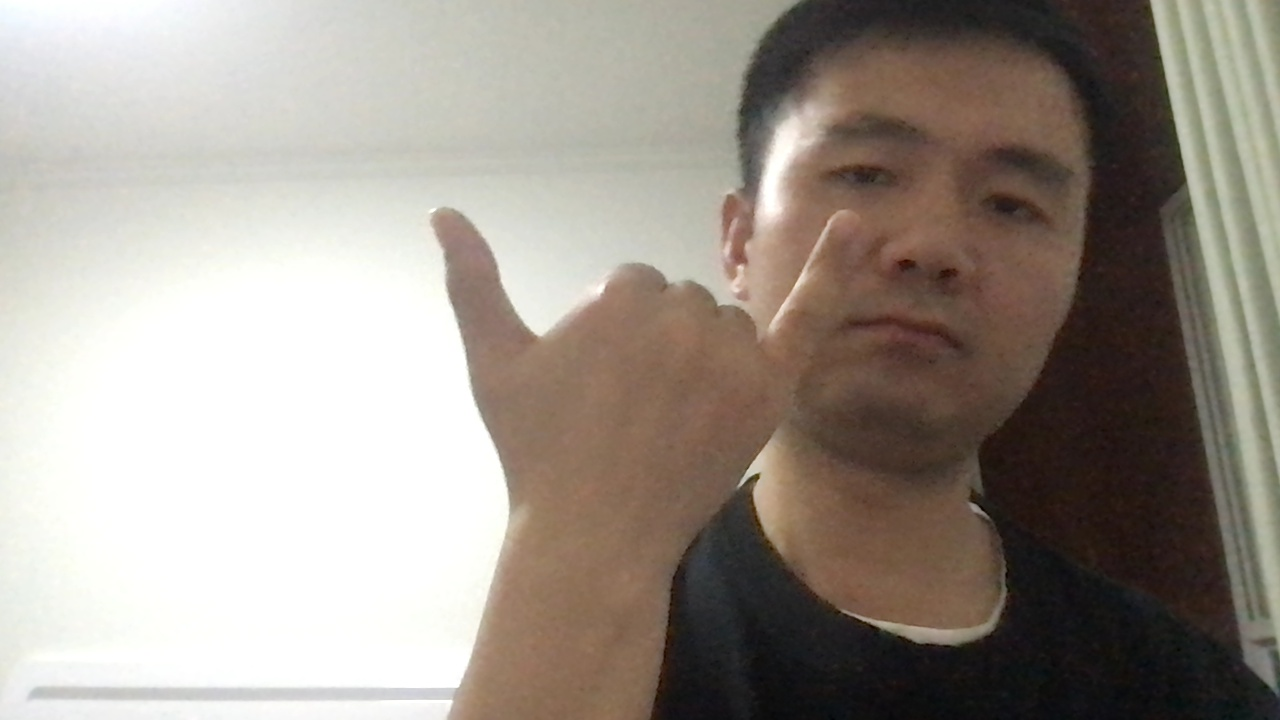iloveyou: (415, 188, 868, 510)
